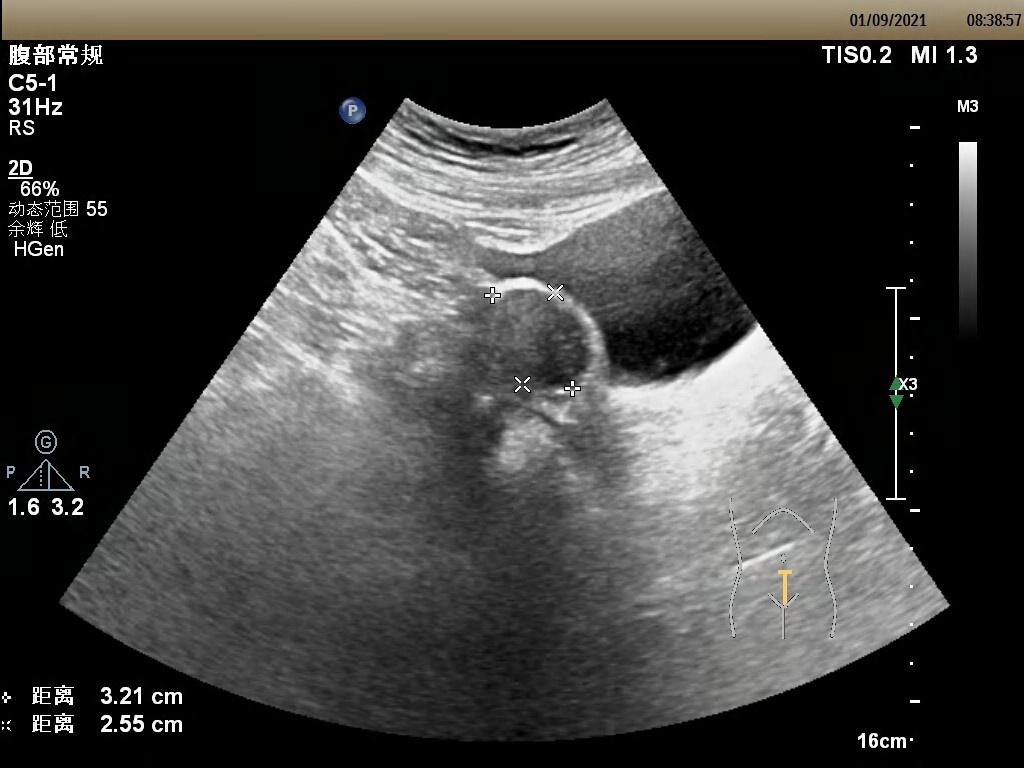肌瘤: (486, 285, 592, 391)
